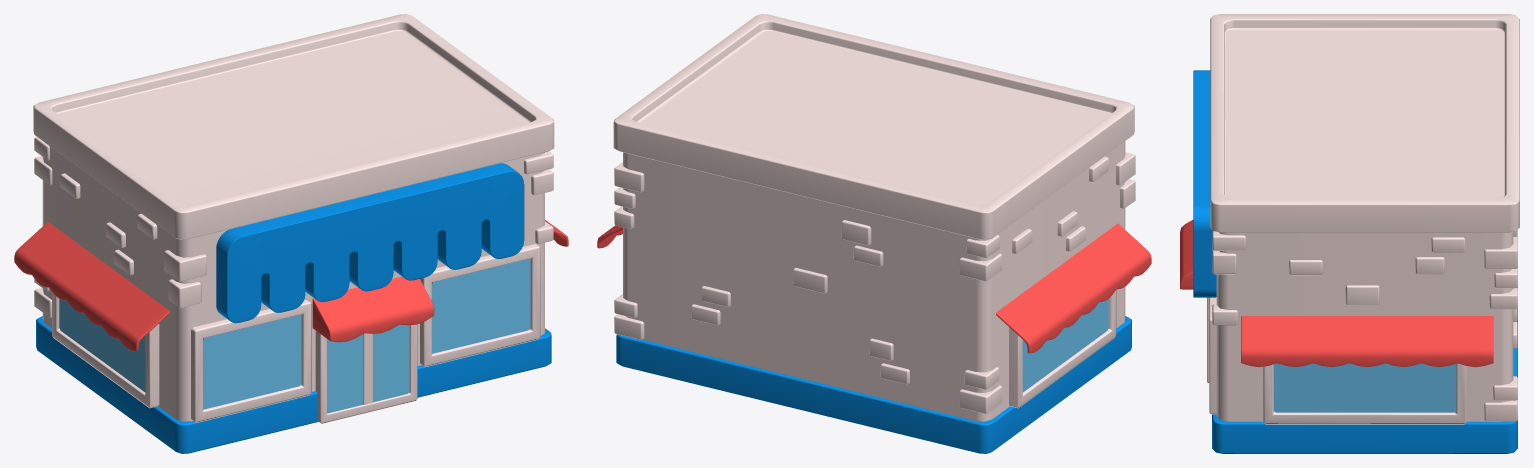
The model's file is Public_15_Hair_Salon_1.glb.
The picture shows the model from 3 angles, left to right: view 1: azimuth 30°, elevation 25°; view 2: azimuth 150°, elevation 25°; view 3: azimuth 270°, elevation 25°; orthographic projection. The views are drawn at different scales.
Parts seen in each view (by area): view 1: Public_15_Hair_Salon_1; view 2: Public_15_Hair_Salon_1; view 3: Public_15_Hair_Salon_1.
Part boxes in pixels (x1,y1,x2,y2): Public_15_Hair_Salon_1: (14, 14, 568, 453); Public_15_Hair_Salon_1: (597, 14, 1151, 453); Public_15_Hair_Salon_1: (1180, 14, 1519, 453).
Size of the model in its own units: 11.87 by 6.38 by 7.82.
1 material, 1 textured.
